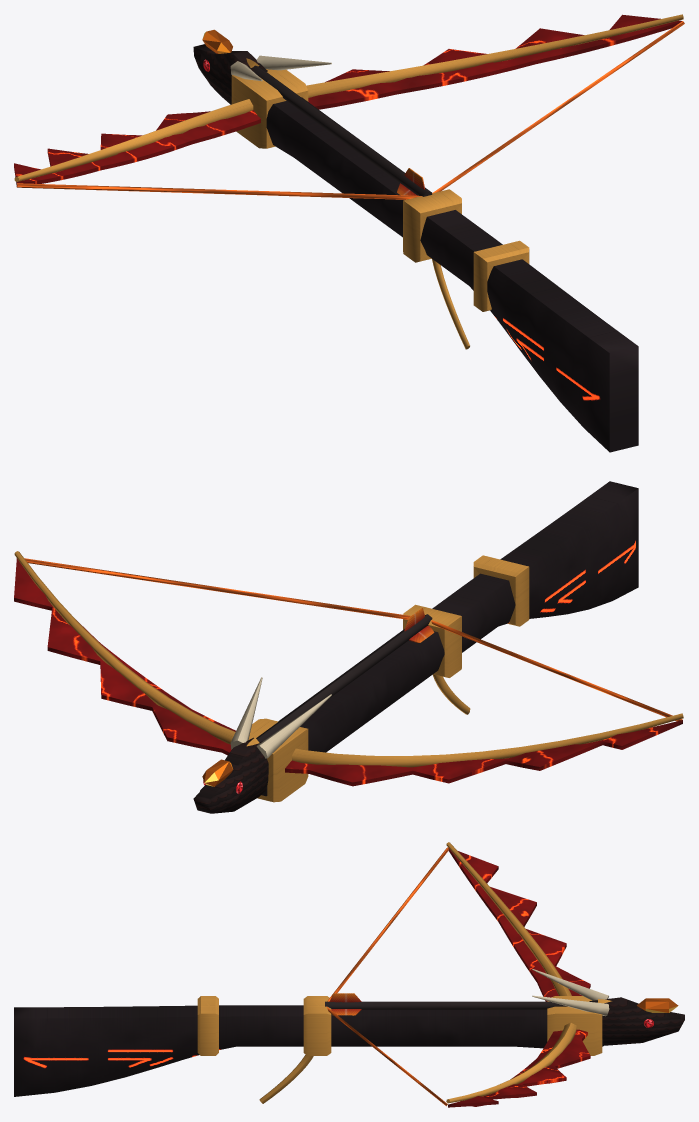
Rendered from DragonbaneArbalest.glb.
The picture shows the model from 3 angles, top to bottom: view 1: azimuth 30°, elevation 25°; view 2: azimuth 150°, elevation 25°; view 3: azimuth 270°, elevation 25°; orthographic projection. The views are drawn at different scales.
Visible parts, largest first — view 1: DragonbaneArbalest; view 2: DragonbaneArbalest; view 3: DragonbaneArbalest.
Boxes of the visible parts, <box> form: DragonbaneArbalest: <box>14,14,684,452</box>; DragonbaneArbalest: <box>14,481,683,813</box>; DragonbaneArbalest: <box>14,842,684,1107</box>.
Bounding box in the file's own units: 2.89 × 0.6934 × 3.17.
1 material, 1 textured.
